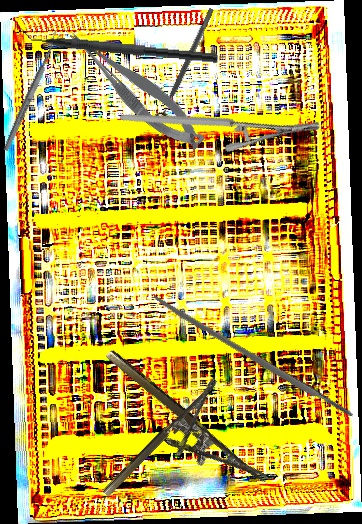Chopper: (13, 22, 220, 63)
Fixation Ring: (153, 4, 221, 125)
Micro Scissor: (63, 14, 210, 163)
Needle Holder: (88, 347, 269, 508), (119, 52, 322, 190), (101, 378, 236, 512)
Scalpel Handle: (150, 292, 356, 422)
Surgical Spoon: (2, 30, 62, 153)
